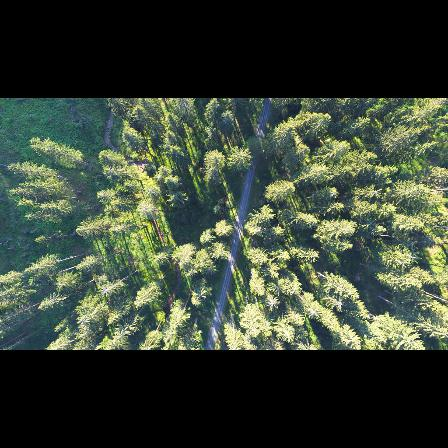Sick: (305, 306, 325, 322), (266, 295, 280, 314)
